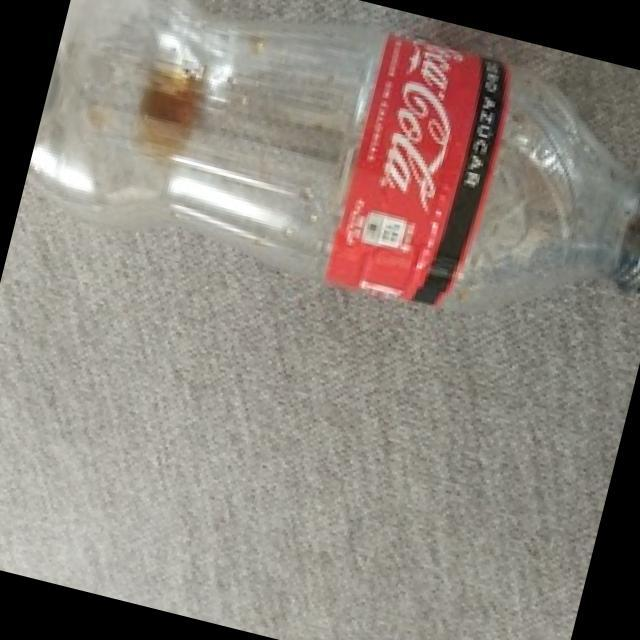good: (16, 0, 640, 369)
